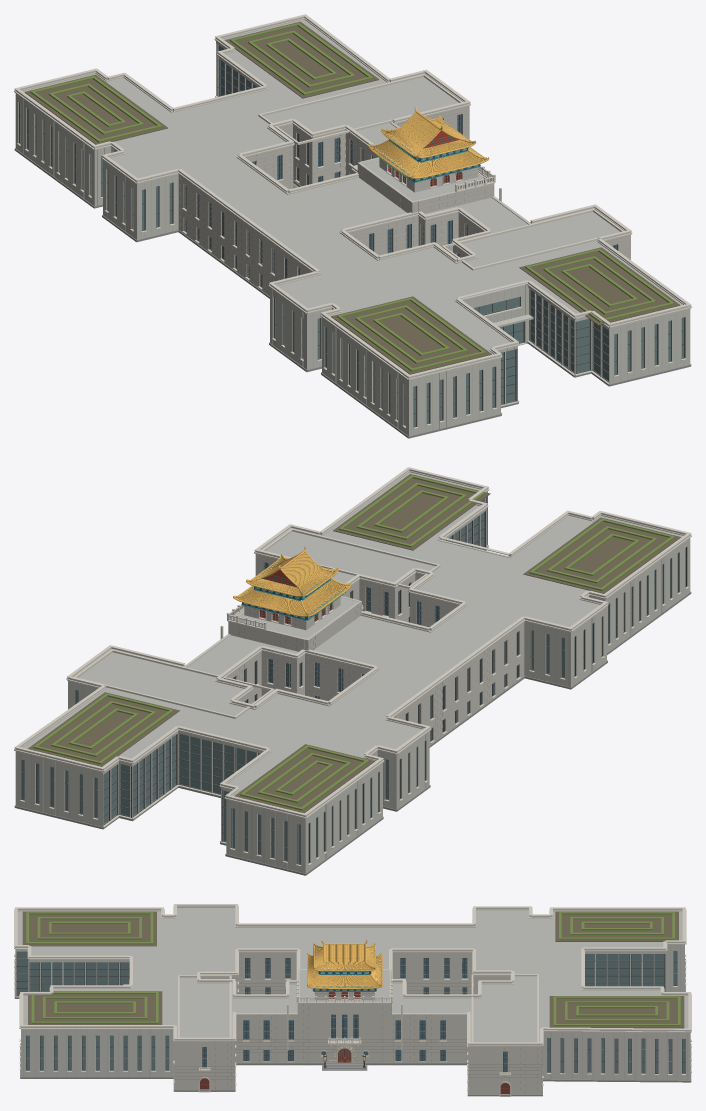
File: yangpu-library-raw.glb
3 renders of one model, top to bottom at view 1: azimuth 30°, elevation 25°; view 2: azimuth 150°, elevation 25°; view 3: azimuth 270°, elevation 25°, orthographic. The views are drawn at different scales.
Parts seen in each view (by area): view 1: yangpu-library; view 2: yangpu-library; view 3: yangpu-library.
Part boxes in pixels (left/top/right/bottom): yangpu-library: left=14, top=14, right=691, bottom=438; yangpu-library: left=14, top=467, right=691, bottom=875; yangpu-library: left=14, top=904, right=691, bottom=1096.
Size of the model in its own units: 62.19 by 22.5 by 126.
